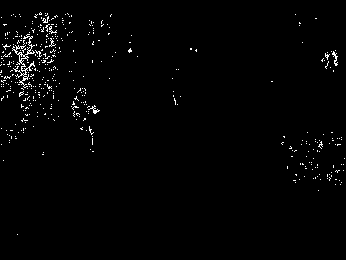person: (71, 87, 100, 155)
